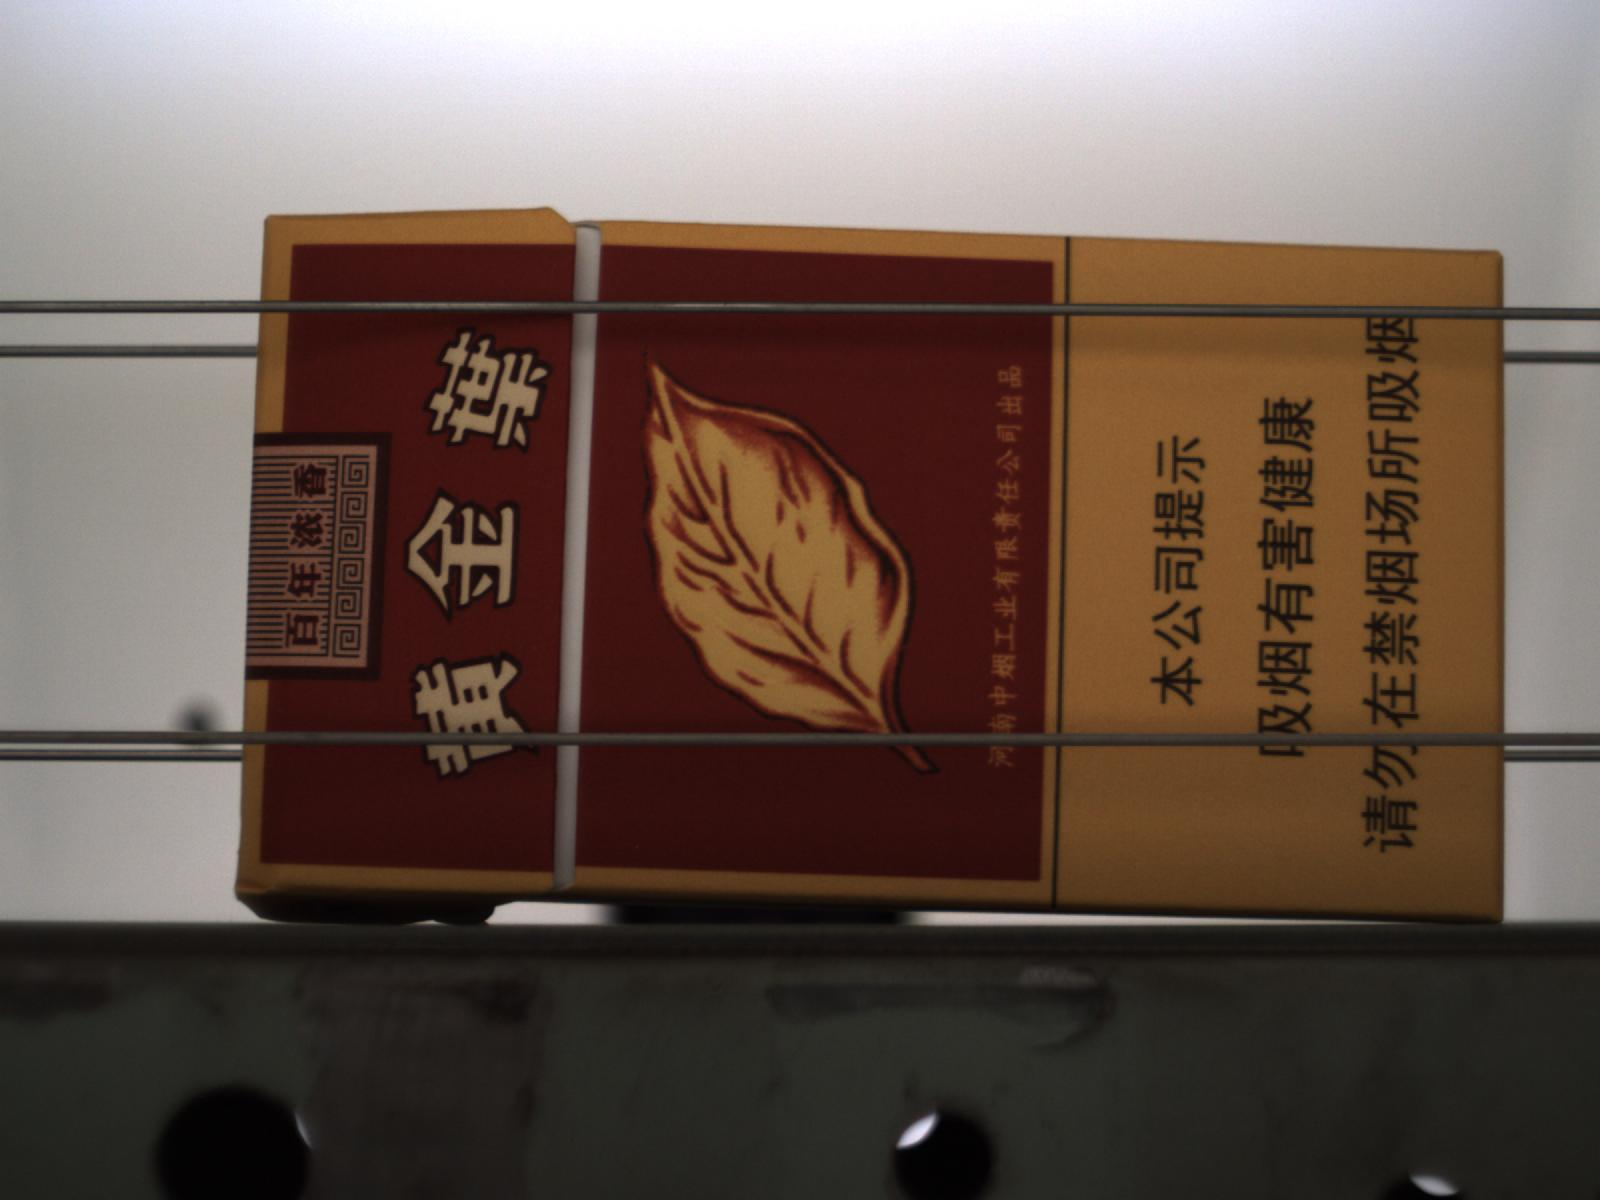lower_upwarp: (231, 886, 548, 928)
